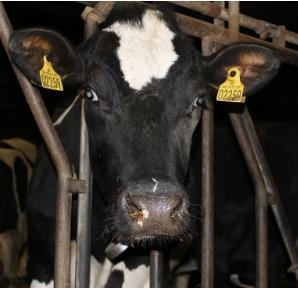cow: (7, 8, 281, 247)
